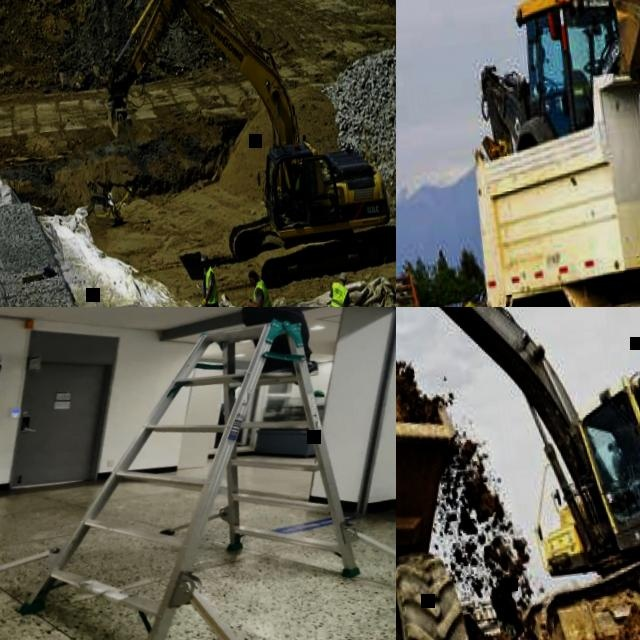Hardhat: (338, 270, 346, 279)
NO-Hardhat: (199, 251, 208, 261), (247, 267, 255, 274), (291, 162, 298, 168)
NO-Mask: (250, 279, 256, 285), (203, 263, 209, 267)
Person: (145, 307, 340, 391), (192, 249, 225, 307), (241, 265, 281, 307), (277, 161, 305, 207), (324, 268, 356, 307)
Safety Vest: (200, 266, 220, 304), (250, 277, 273, 307), (328, 279, 351, 307), (291, 173, 305, 191)
machinery: (87, 0, 396, 301), (396, 307, 640, 640), (461, 27, 640, 307), (459, 0, 640, 161), (396, 339, 492, 640)
